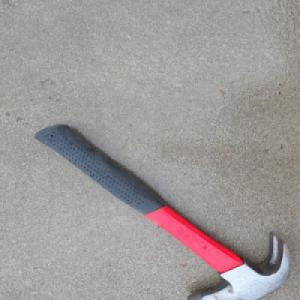Hammer: (34, 123, 289, 296)
